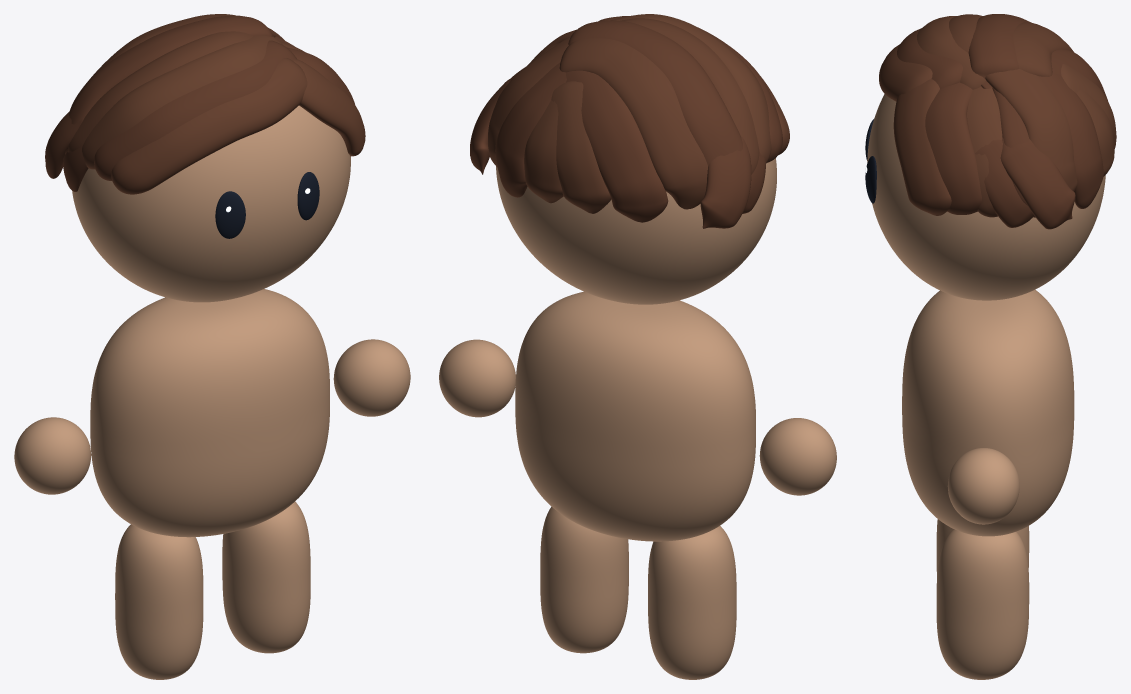
File: Masculine-skin2.glb
3 views of the same model, side by side, from view 1: azimuth 30°, elevation 25°; view 2: azimuth 150°, elevation 25°; view 3: azimuth 270°, elevation 25° (orthographic). The views are drawn at different scales.
Parts seen in each view (by area): view 1: Skin / compact torso, Skin / soft oval head, Skin / leg -1, Skin / leg 1, Hair / Main sweep 0, Hair / Main sweep 2, Hair / Main sweep 1, Skin / hand -1, Skin / hand 1, Hair / Crown sweep, Hair / Main sweep 3, Hair / Short side 0 (+6 smaller); view 2: Skin / compact torso, Skin / soft oval head, Skin / leg -1, Skin / leg 1, Hair / Back sweep 0, Hair / Back sweep 1, Hair / Crown sweep, Skin / hand 1, Skin / hand -1, Hair / Back sweep 2, Hair / Back sweep 4, Hair / Main sweep 3 (+7 smaller); view 3: Skin / compact torso, Skin / soft oval head, Skin / leg 1, Hair / Short side 1, Hair / Short side 0, Hair / Back sweep 3, Skin / hand 1, Hair / Temple 1 1, Hair / Back sweep 4, Hair / Crown sweep, Hair / Short side 2, Hair / Temple 1 0 (+11 smaller).
Part boxes in pixels (x1,y1,x2,y2): Skin / compact torso: [90, 289, 329, 537]; Skin / soft oval head: [72, 105, 350, 302]; Skin / leg -1: [115, 524, 203, 679]; Skin / leg 1: [222, 501, 310, 653]; Hair / Main sweep 0: [111, 58, 307, 194]; Hair / Main sweep 2: [82, 35, 282, 169]; Hair / Main sweep 1: [94, 40, 296, 180]; Skin / hand -1: [14, 417, 91, 494]; Skin / hand 1: [333, 339, 410, 416]; Hair / Crown sweep: [65, 15, 272, 154]; Hair / Main sweep 3: [67, 31, 253, 152]; Hair / Short side 0: [293, 59, 365, 156]; Skin / compact torso: [515, 291, 755, 541]; Skin / soft oval head: [496, 158, 776, 304]; Skin / leg -1: [648, 526, 736, 679]; Skin / leg 1: [540, 506, 628, 653]; Hair / Back sweep 0: [559, 38, 707, 209]; Hair / Back sweep 1: [566, 70, 668, 222]; Hair / Crown sweep: [568, 20, 742, 165]; Skin / hand 1: [439, 339, 515, 417]; Skin / hand -1: [759, 418, 836, 495]; Hair / Back sweep 2: [551, 81, 611, 213]; Hair / Back sweep 4: [495, 62, 566, 197]; Hair / Main sweep 3: [620, 18, 759, 174]; Skin / compact torso: [902, 289, 1074, 536]; Skin / soft oval head: [867, 94, 1105, 300]; Skin / leg 1: [936, 529, 1029, 679]; Hair / Short side 1: [925, 82, 981, 214]; Hair / Short side 0: [893, 79, 951, 215]; Hair / Back sweep 3: [985, 69, 1077, 191]; Skin / hand 1: [947, 448, 1019, 524]; Hair / Temple 1 1: [1000, 138, 1075, 229]; Hair / Back sweep 4: [1039, 73, 1103, 208]; Hair / Crown sweep: [968, 14, 1031, 88]; Hair / Short side 2: [967, 87, 1002, 217]; Hair / Temple 1 0: [975, 139, 1033, 227].
Size of the model in its own units: 1.49 by 2.32 by 0.8517.
